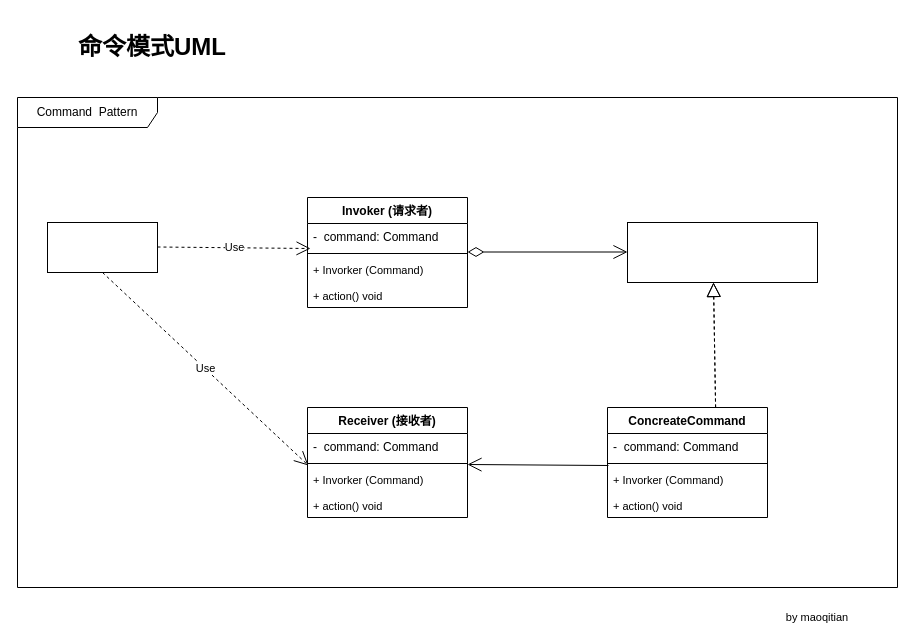
The diagram is 915 pixels wide and 644 high, and some of its shapes have lost their labels. The centre of each missing label's shape, as x and y in pixels:
"<<Interface>> Command + execute() : void" goes at pixel 722 252.
"Client" goes at pixel 102 247.
